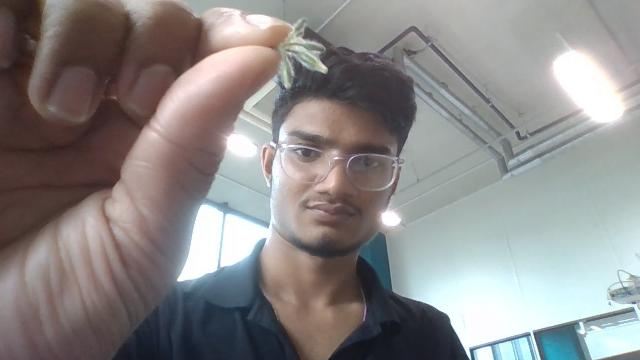Flower Bud: (286, 46, 328, 73), (277, 59, 294, 92), (278, 53, 293, 89), (290, 15, 310, 38), (289, 17, 308, 37)
